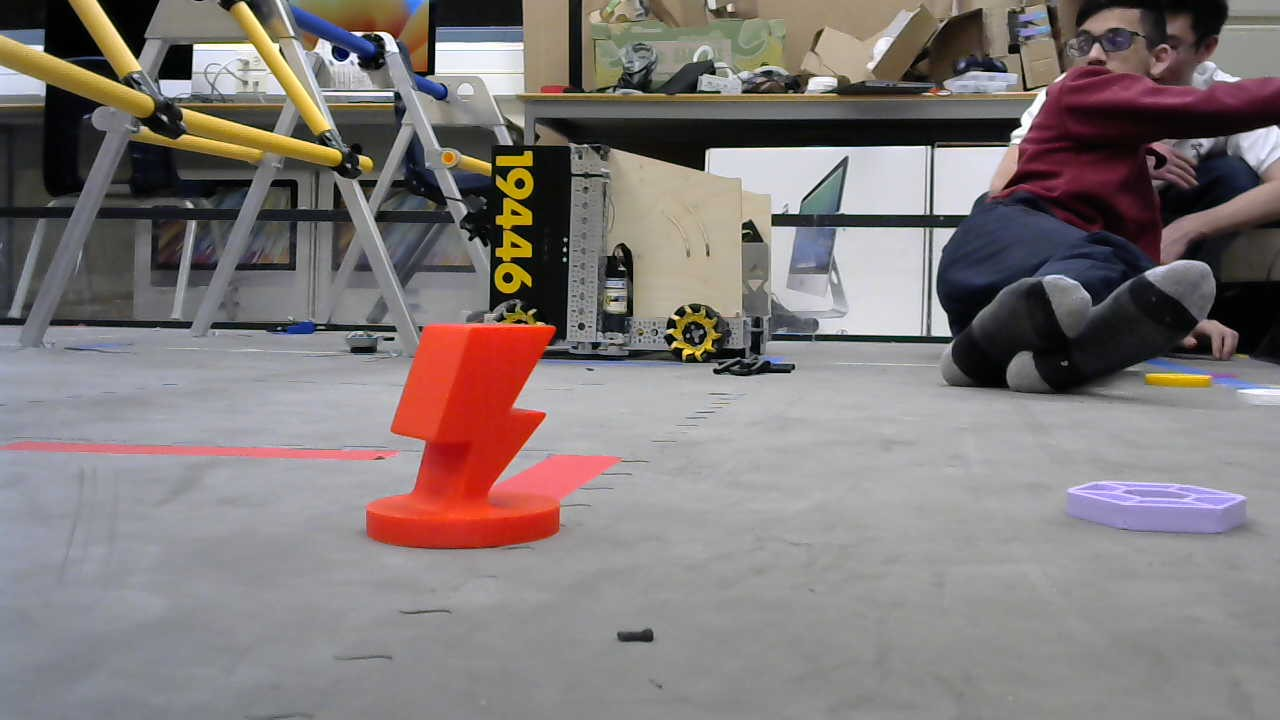redobject: (365, 320, 564, 550)
